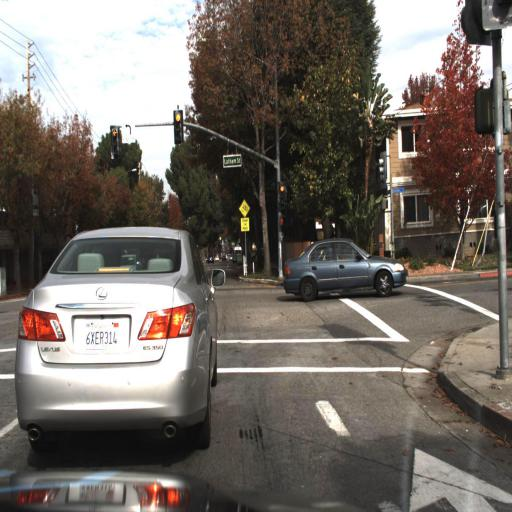car: (15, 228, 215, 444), (280, 236, 406, 300)
trafficLight-Red: (174, 104, 184, 148), (273, 171, 288, 196), (276, 179, 286, 212)
trafficLight-RedLeft: (110, 118, 120, 158)
